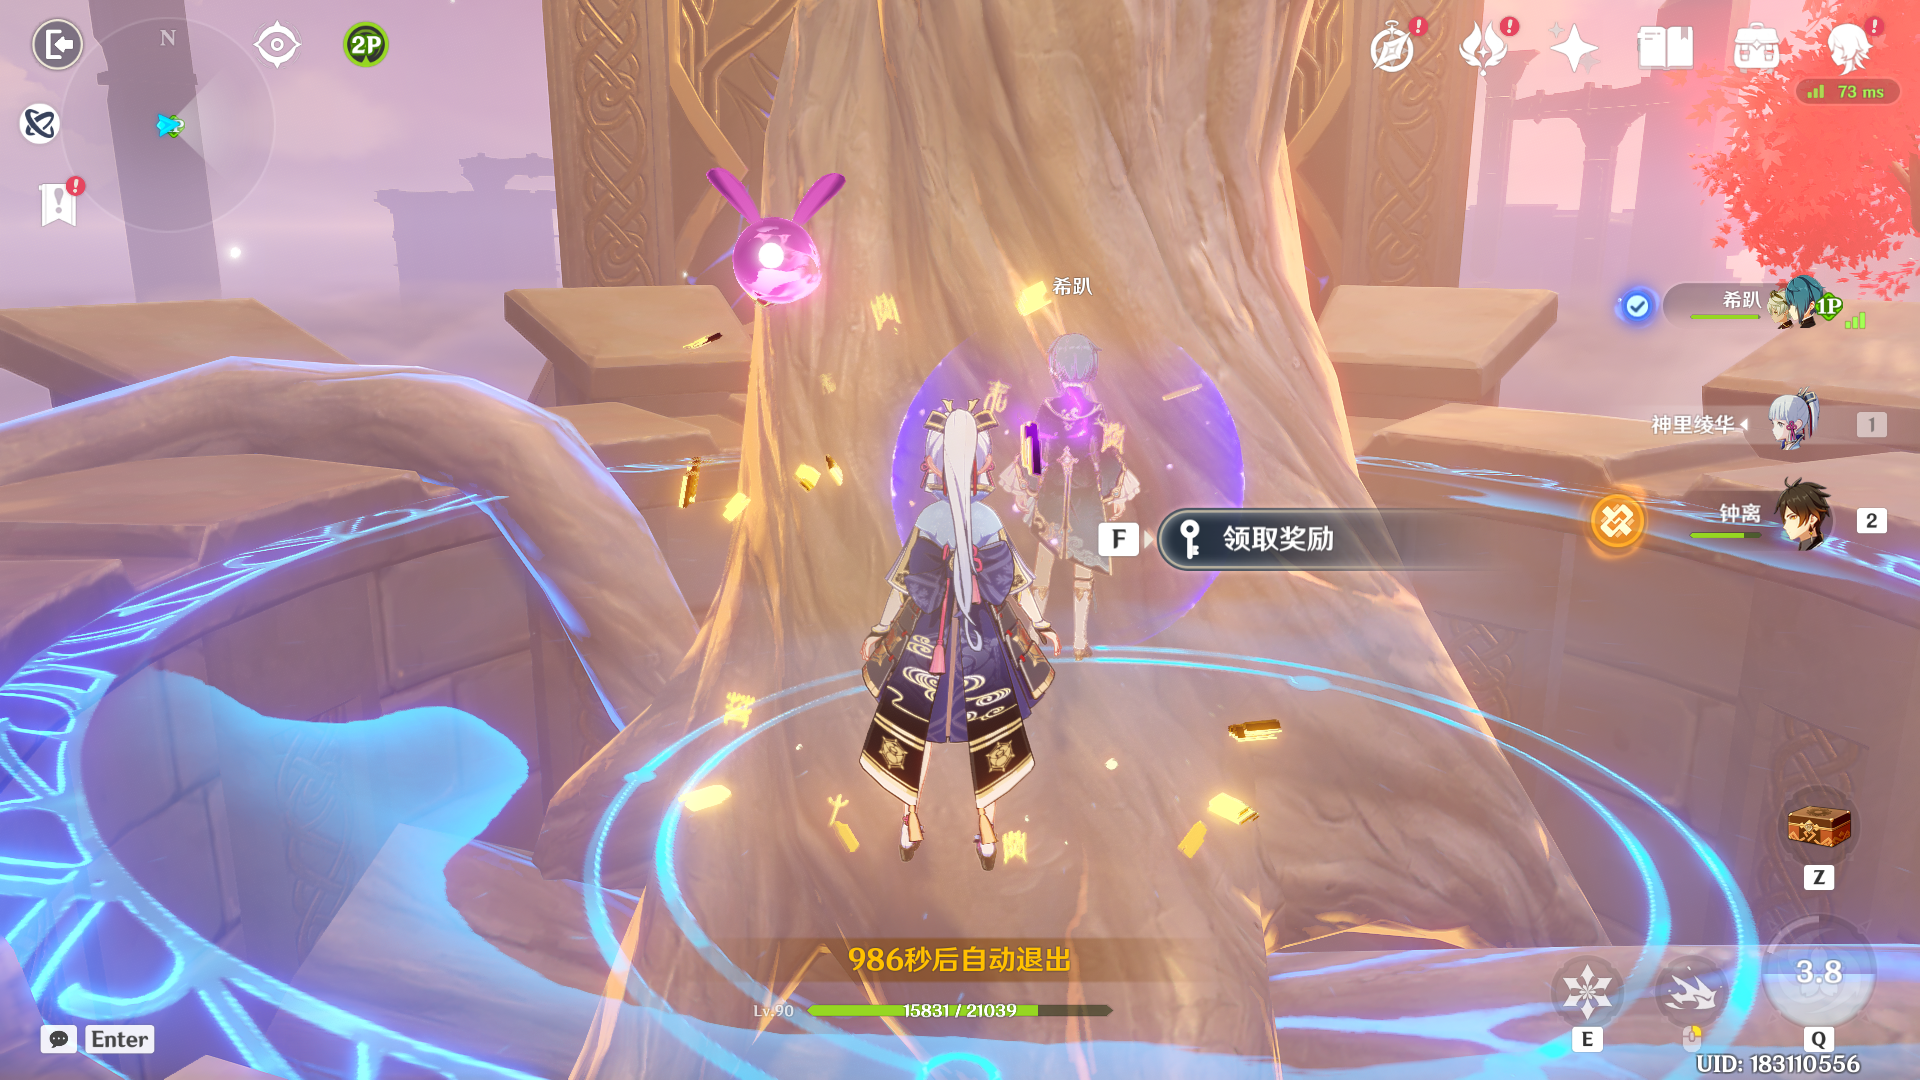character: (815, 380, 1091, 891), (957, 313, 1172, 676)
